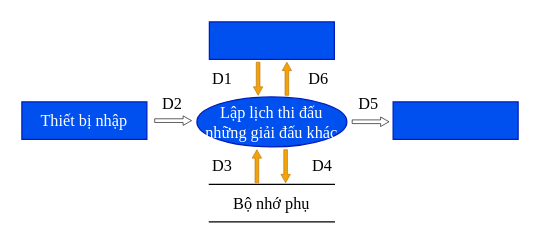
Some shapes in this 540 by 244 pixel diagram are drawn without their labels. Each missing label, with the box of its shape:
Người dùng: (208, 21, 334, 59)
Thiết bị xuất: (392, 101, 518, 139)
